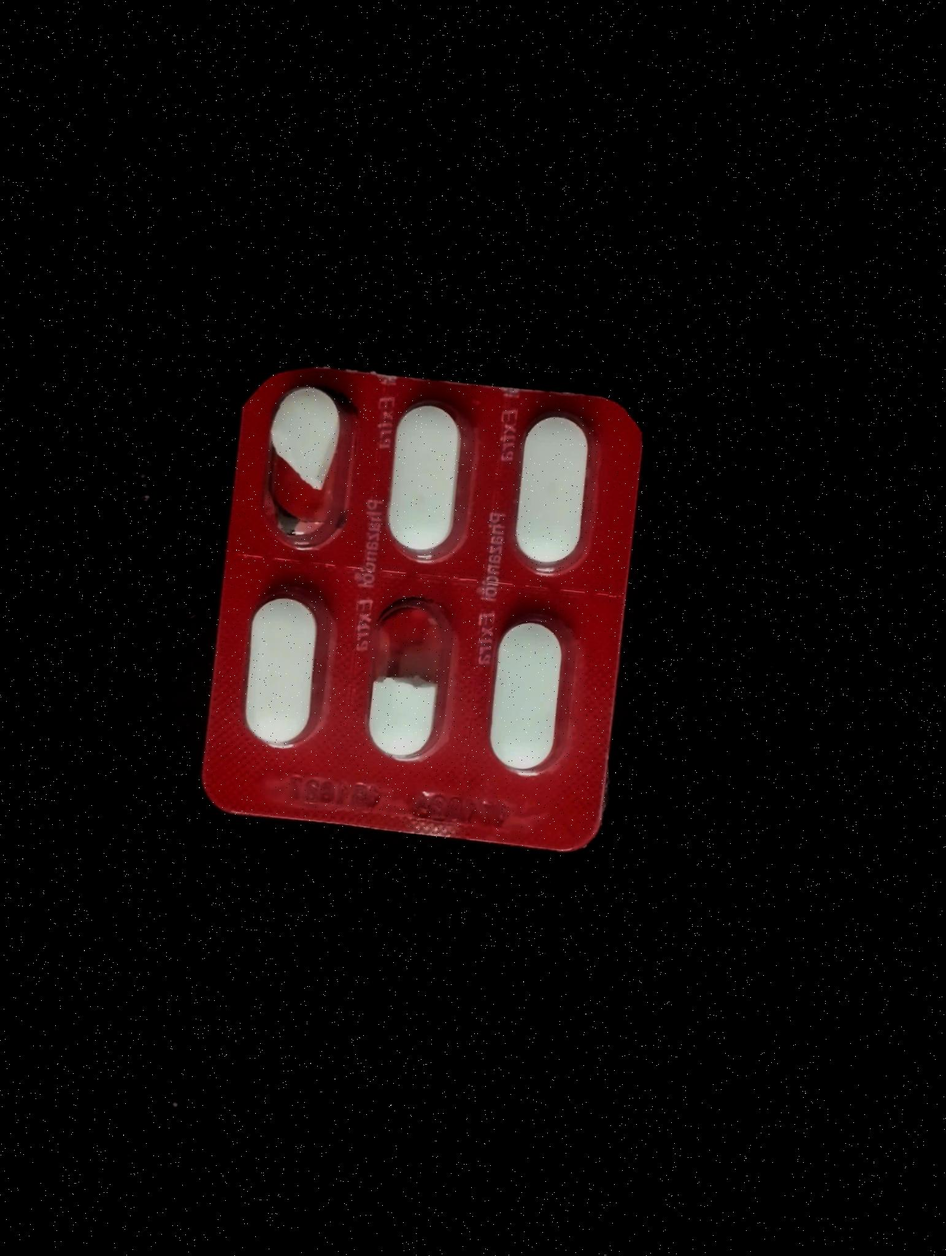Full: (476, 607, 582, 778), (500, 410, 604, 580), (234, 587, 335, 755), (385, 392, 468, 566)
Partial: (250, 385, 358, 553), (369, 597, 463, 767)
